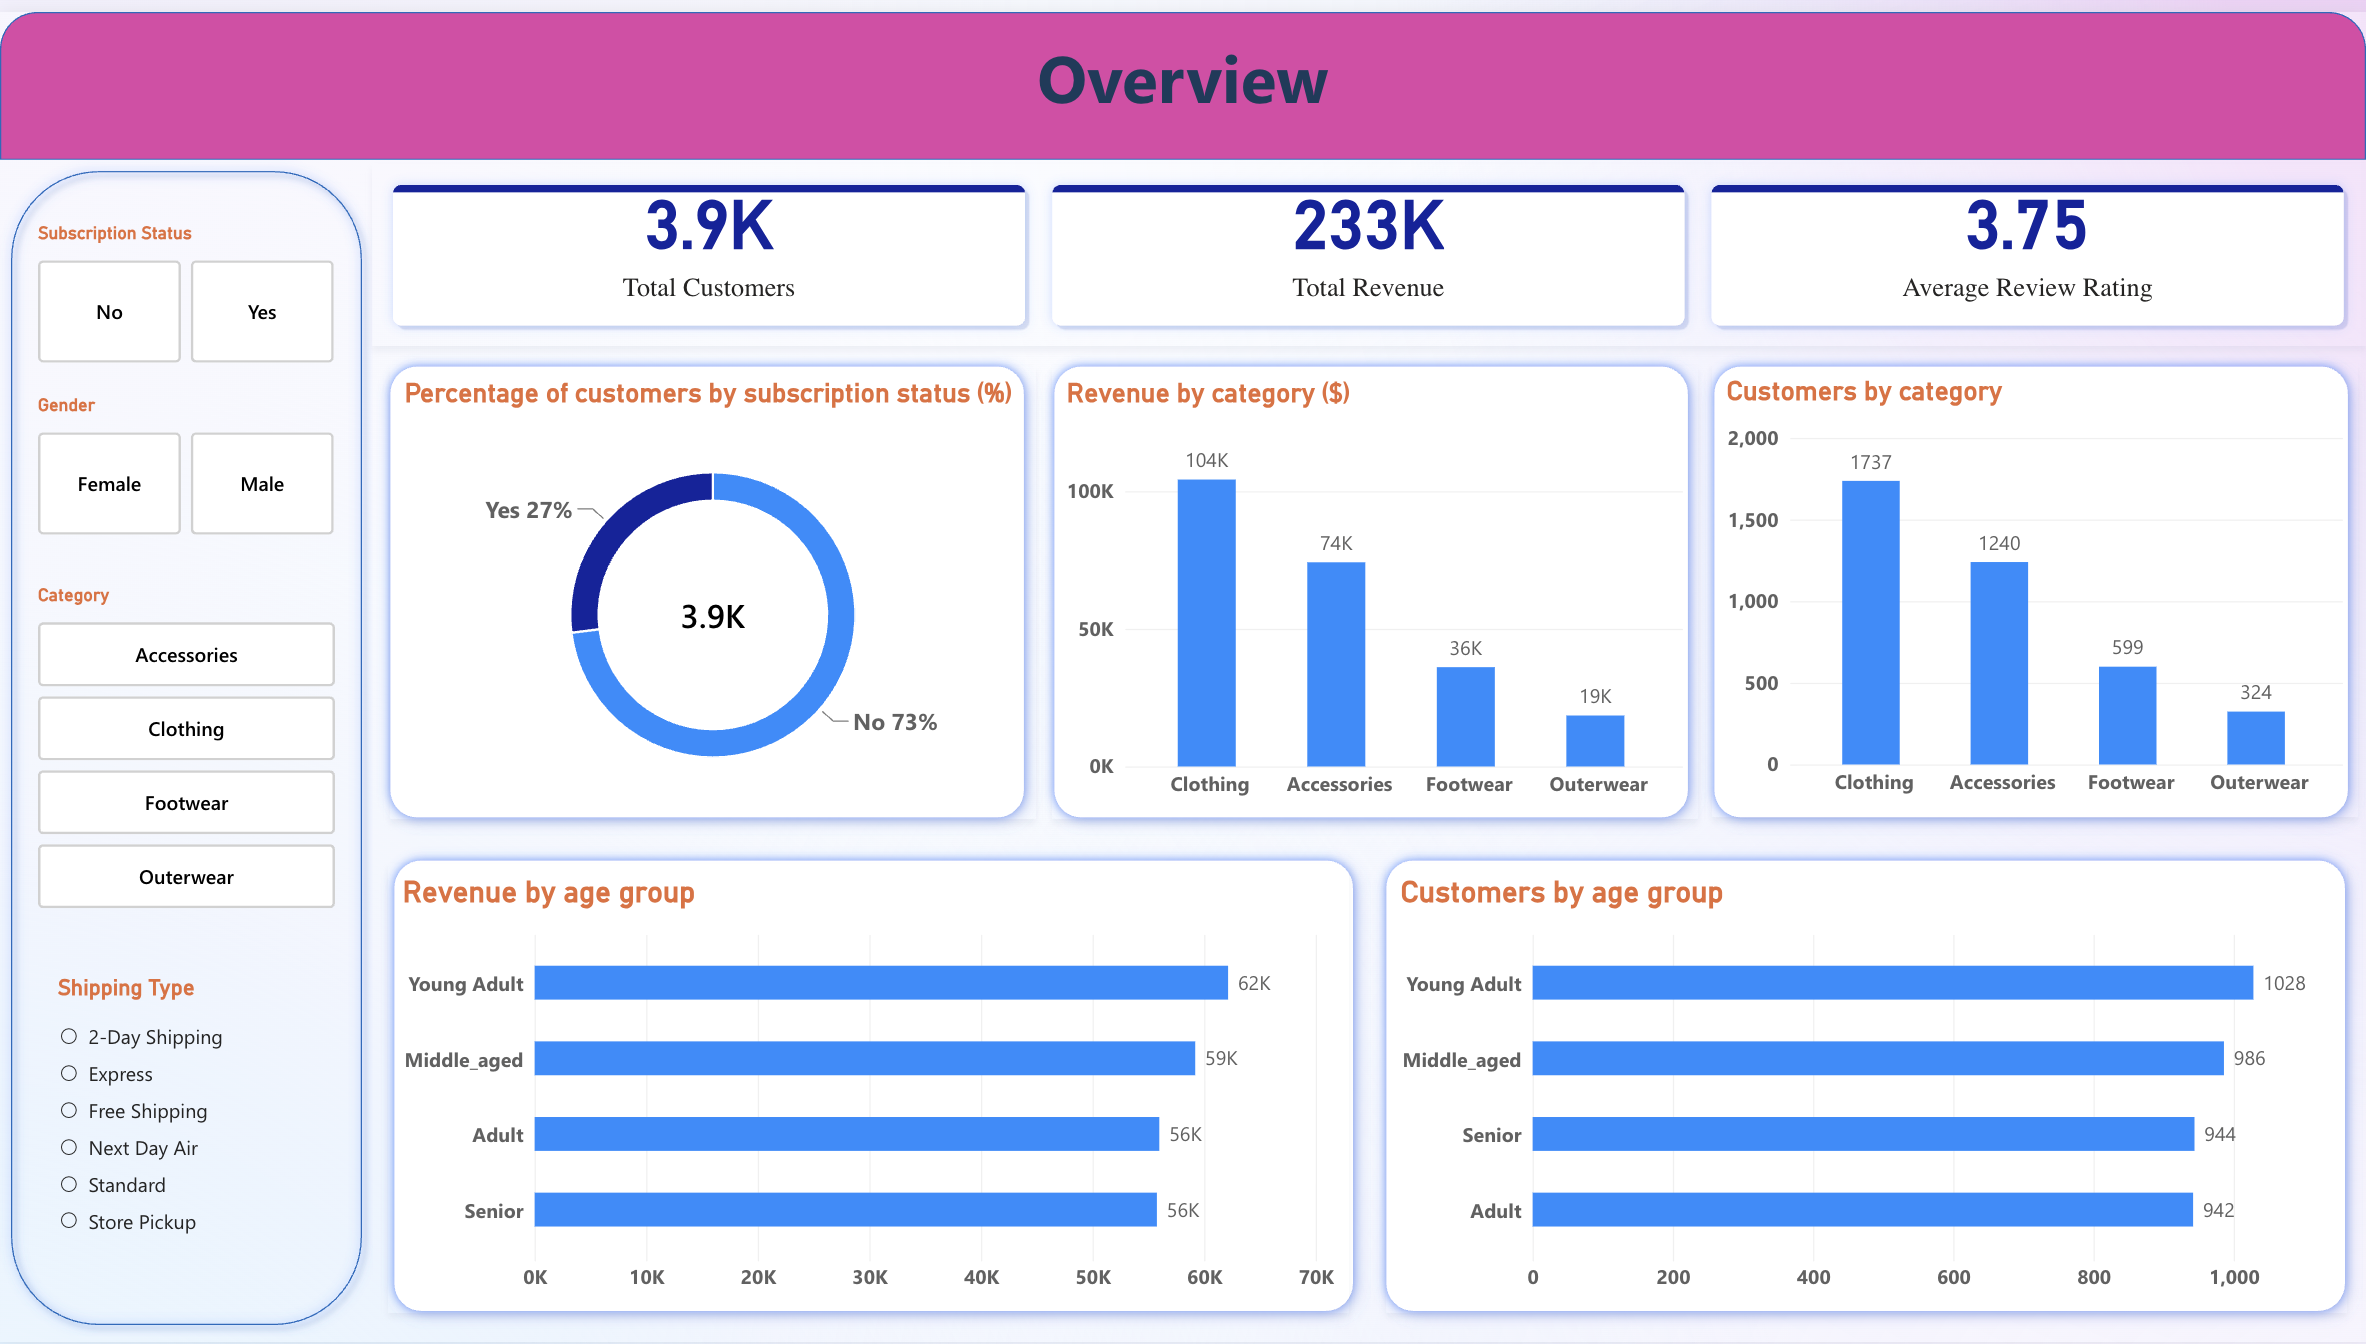

The dashboard page shown, as its layout file describes it:
{"tool":"powerbi","page":{"name":"Overview","canvas":[1920,1080],"ordinal":0},"visuals":[{"type":"cardVisual","fields":{"Data":["public customer.Number of customers","Sum(public customer.purchase_amount)","public customer.Average Review Rating"]},"box":[302,124,1618,148],"z":0},{"type":"shape","box":[0,0,1920,120],"z":1000},{"type":"textbox","box":[0,16,1920,108],"z":2000},{"type":"shape","box":[302,272,544,396],"z":3000},{"type":"donutChart","title":"Percentage of customers by subscription status (%)","fields":{"Category":["public customer.subscription_status"],"Y":["CountNonNull(public customer.customer_id)"]},"box":[316,288,524,368],"z":4000},{"type":"shape","box":[840,272,544,396],"z":5000},{"type":"clusteredColumnChart","title":"Revenue by category ($)","fields":{"Category":["public customer.category"],"Y":["Sum(public customer.purchase_amount)"]},"box":[854.2,287.8,524,368],"z":6000},{"type":"shape","box":[1376,272,544,396],"z":7000},{"type":"clusteredColumnChart","title":"Customers by category","fields":{"Category":["public customer.category"],"Y":["CountNonNull(public customer.customer_id)"]},"box":[1390,286,524,368],"z":8000},{"type":"shape","box":[0,120.7,302.7,954.4],"z":9000},{"type":"advancedSlicerVisual","title":"Subscription Status","fields":{"Values":["public customer.subscription_status"]},"box":[31.6,172.7,241.4,113.3],"z":10000},{"type":"advancedSlicerVisual","title":"Gender","fields":{"Values":["public customer.gender"]},"box":[31.6,312,241.4,113.3],"z":11000},{"type":"advancedSlicerVisual","title":"Category","fields":{"Values":["public customer.category"]},"box":[31.6,466.1,241.4,263.7],"z":12000},{"type":"shape","box":[304.5,674,807.7,395.5],"z":13000},{"type":"listSlicer","title":"Shipping Type","fields":{"Values":["public customer.shipping_type"]},"box":[31.6,768.7,241.4,286],"z":14000},{"type":"clusteredBarChart","title":"Revenue by age group","fields":{"Category":["public customer.age_group"],"Y":["Sum(public customer.purchase_amount)"]},"box":[315.7,690.8,779.9,363.9],"z":15000},{"type":"shape","box":[1110.4,674,807.7,395.5],"z":16000},{"type":"clusteredBarChart","title":"Customers by age group","fields":{"Category":["public customer.age_group"],"Y":["CountNonNull(public customer.customer_id)"]},"box":[1125.3,690.8,779.9,363.9],"z":17000}]}

Visuals, with their boxes in screenshot pixels (x1, y1, x2, y2), scaled from the page's 1920x1080 canvas onto the 2366x1344 screenshot:
cardVisual - public customer.Number of customers x Sum(public customer.purchase_amount): bbox=(372, 154, 2365, 338)
shape: bbox=(0, 0, 2365, 149)
textbox: bbox=(0, 20, 2365, 154)
shape: bbox=(372, 338, 1043, 831)
"Percentage of customers by subscription status (%)" donutChart: bbox=(389, 358, 1035, 816)
shape: bbox=(1035, 338, 1705, 831)
"Revenue by category ($)" clusteredColumnChart: bbox=(1053, 358, 1698, 816)
shape: bbox=(1696, 338, 2365, 831)
"Customers by category" clusteredColumnChart: bbox=(1713, 356, 2359, 814)
shape: bbox=(0, 150, 373, 1338)
"Subscription Status" advancedSlicerVisual: bbox=(39, 215, 336, 356)
"Gender" advancedSlicerVisual: bbox=(39, 388, 336, 529)
"Category" advancedSlicerVisual: bbox=(39, 580, 336, 908)
shape: bbox=(375, 839, 1371, 1331)
"Shipping Type" listSlicer: bbox=(39, 957, 336, 1313)
"Revenue by age group" clusteredBarChart: bbox=(389, 860, 1350, 1313)
shape: bbox=(1368, 839, 2364, 1331)
"Customers by age group" clusteredBarChart: bbox=(1387, 860, 2348, 1313)
